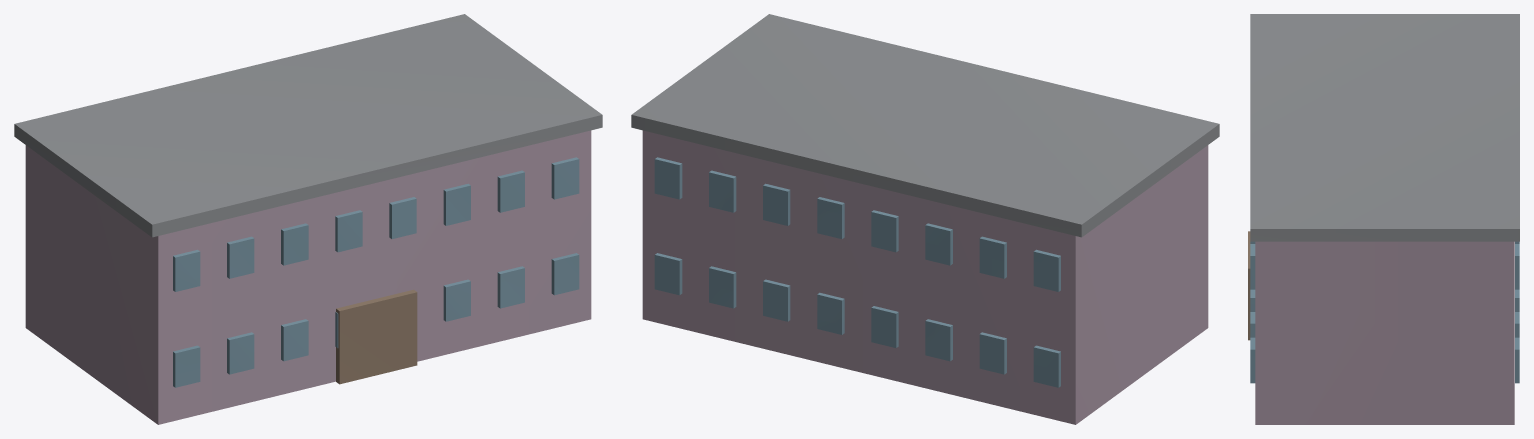
File: warehouse-05.glb
3 renders of one model, left to right at view 1: azimuth 30°, elevation 25°; view 2: azimuth 150°, elevation 25°; view 3: azimuth 270°, elevation 25°, orthographic. The views are drawn at different scales.
Visible parts, largest first — view 1: world; view 2: world; view 3: world.
Part boxes in pixels (x1,y1,x2,y2): world: [14, 14, 602, 424]; world: [631, 14, 1219, 424]; world: [1248, 14, 1519, 424].
Size of the model in its own units: 2.57 by 1.12 by 1.38.
